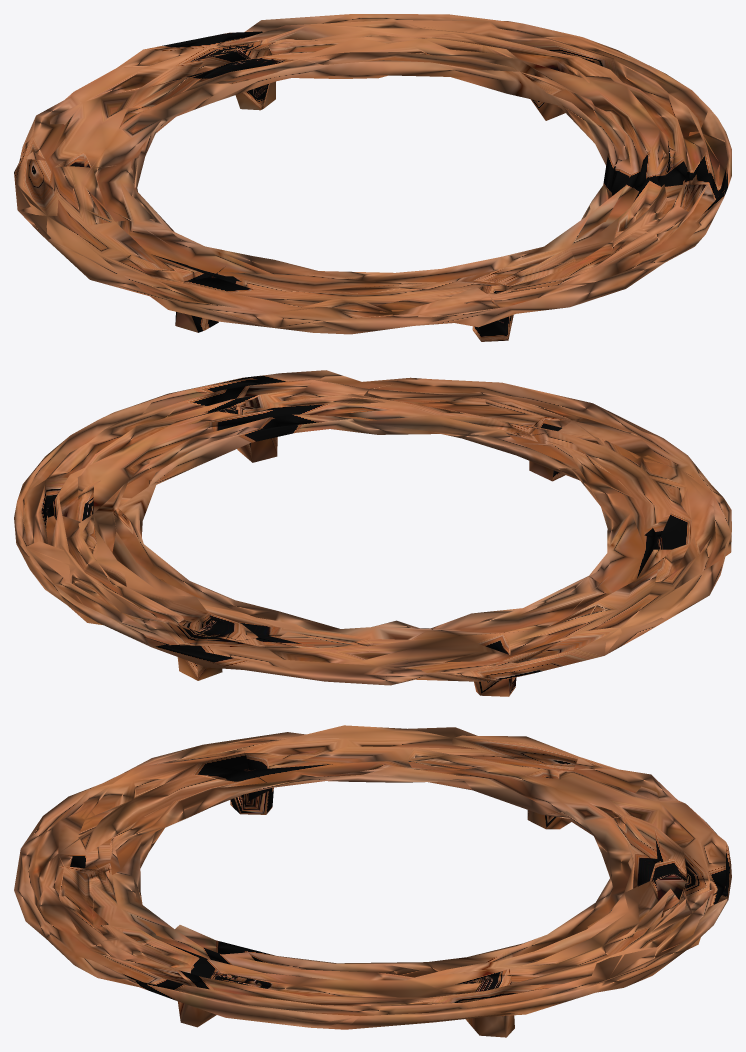
The model's file is gso_in_green_company_surface_saver_ring_10_terra_cotta.glb.
The picture shows the model from 3 angles, top to bottom: view 1: azimuth 30°, elevation 25°; view 2: azimuth 150°, elevation 25°; view 3: azimuth 270°, elevation 25°; orthographic projection.
Parts seen in each view (by area): view 1: z-up-to-y-up; view 2: z-up-to-y-up; view 3: z-up-to-y-up.
Boxes of the visible parts, <box> form: z-up-to-y-up: <box>14,14,731,341</box>; z-up-to-y-up: <box>14,370,731,696</box>; z-up-to-y-up: <box>14,725,731,1037</box>.
Bounding box in the file's own units: 0.2517 × 0.024 × 0.2518.
1 material, 1 textured.
